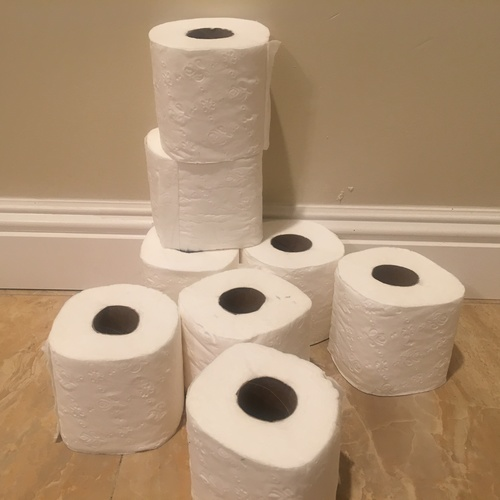roll: (182, 342, 340, 499), (45, 287, 180, 456), (328, 246, 465, 395), (147, 19, 280, 165), (142, 124, 263, 251), (178, 268, 312, 370), (244, 217, 344, 351), (138, 222, 240, 287)
